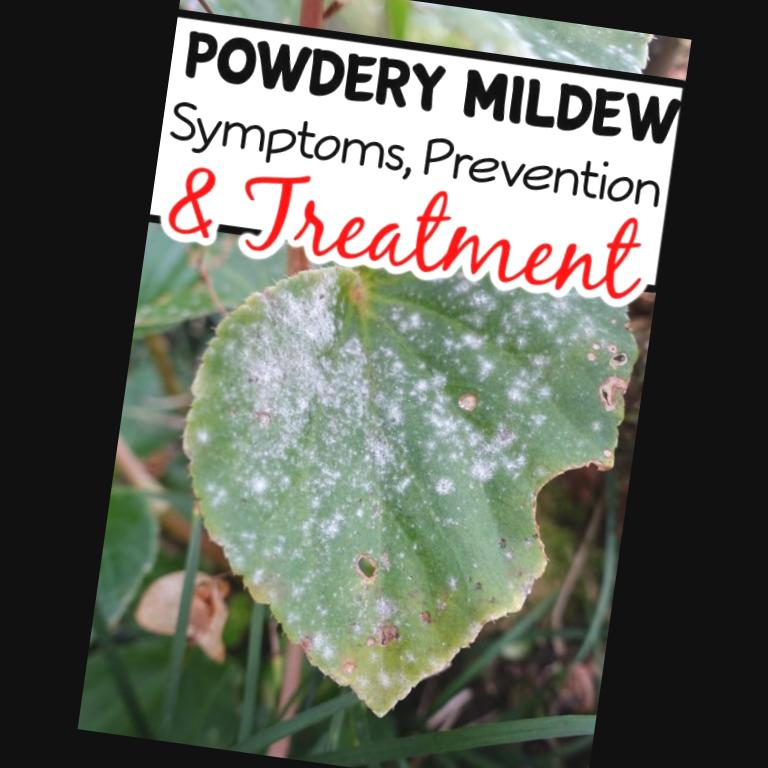powdery-mildew: (231, 274, 548, 554)
